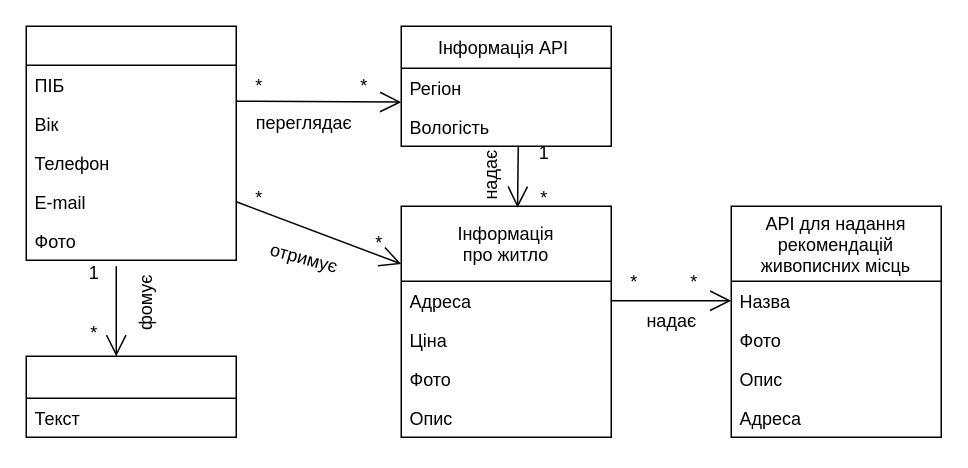
This 968x468 diagram has some shape labels left out. The box of each missing label's shape, as (x1, y1, x2, y2) in pixels:
Online-замовлення: (25, 355, 236, 437)
Користувач: (25, 25, 236, 260)
